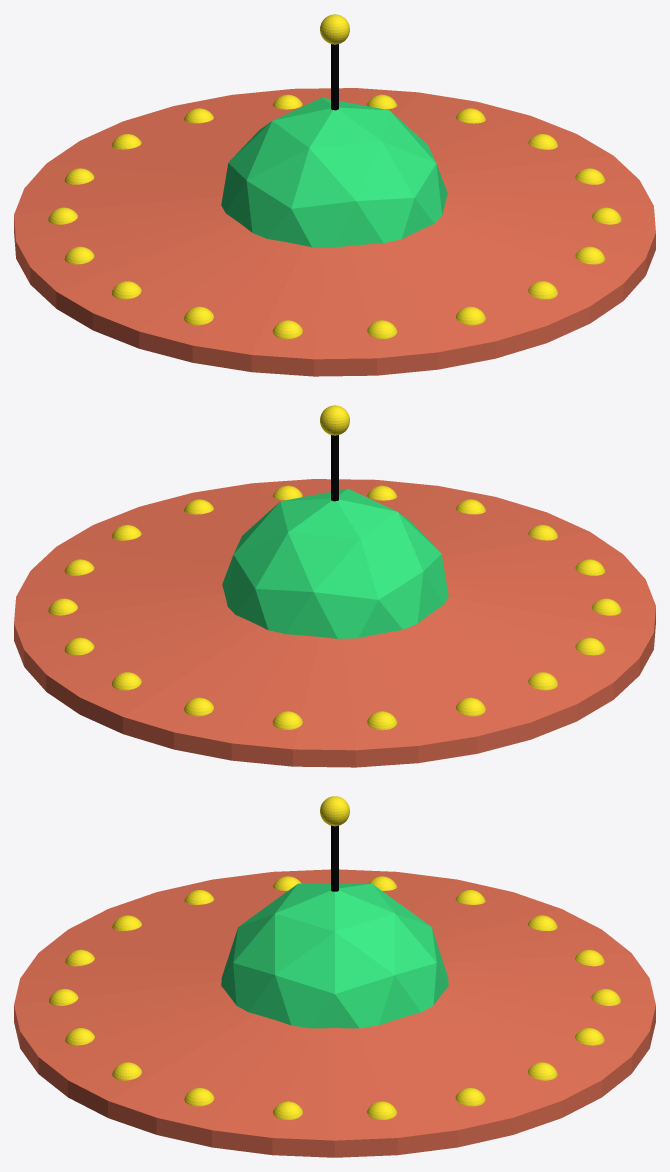
File: ufo.fbx
The picture shows the model from 3 angles, top to bottom: view 1: azimuth 30°, elevation 25°; view 2: azimuth 150°, elevation 25°; view 3: azimuth 270°, elevation 25°; orthographic projection.
Visible parts, largest first — view 1: Sphere; view 2: Sphere; view 3: Sphere.
Part boxes in pixels (left/top/right/bottom): Sphere: left=14, top=14, right=655, bottom=376; Sphere: left=14, top=405, right=655, bottom=767; Sphere: left=14, top=796, right=655, bottom=1157.
Bounding box in the file's own units: 974 × 426 × 974.
